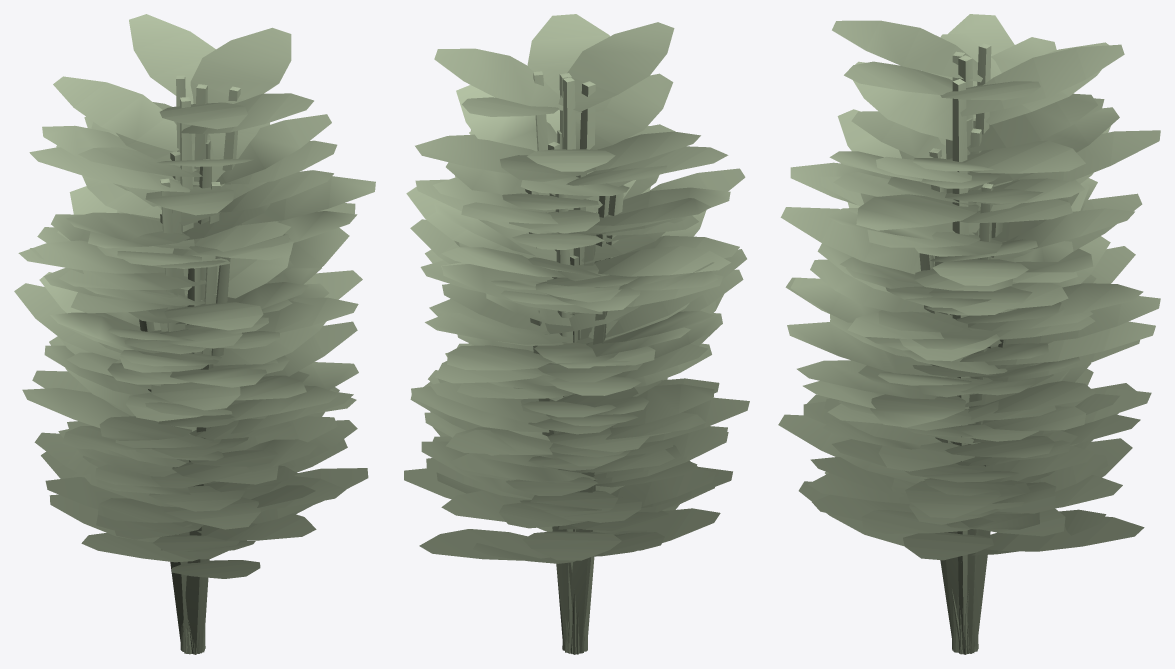
File: layer_vine.glb
3 renders of one model, left to right at view 1: azimuth 30°, elevation 25°; view 2: azimuth 150°, elevation 25°; view 3: azimuth 270°, elevation 25°, orthographic. The views are drawn at different scales.
Visible parts, largest first — view 1: v2_foliage, v1_foliage, v0_foliage; view 2: v2_foliage, v0_foliage, v1_foliage; view 3: v2_foliage, v0_foliage, v1_foliage.
Part boxes in pixels (x1,y1,x2,y2): v2_foliage: (22, 27, 375, 654); v1_foliage: (18, 75, 358, 654); v0_foliage: (14, 14, 358, 653); v2_foliage: (410, 14, 746, 654); v0_foliage: (404, 71, 749, 653); v1_foliage: (426, 22, 745, 652); v2_foliage: (778, 14, 1160, 654); v0_foliage: (785, 44, 1160, 653); v1_foliage: (810, 20, 1139, 649).
Bounding box in the file's own units: 0.5728 × 1 × 0.5688.
